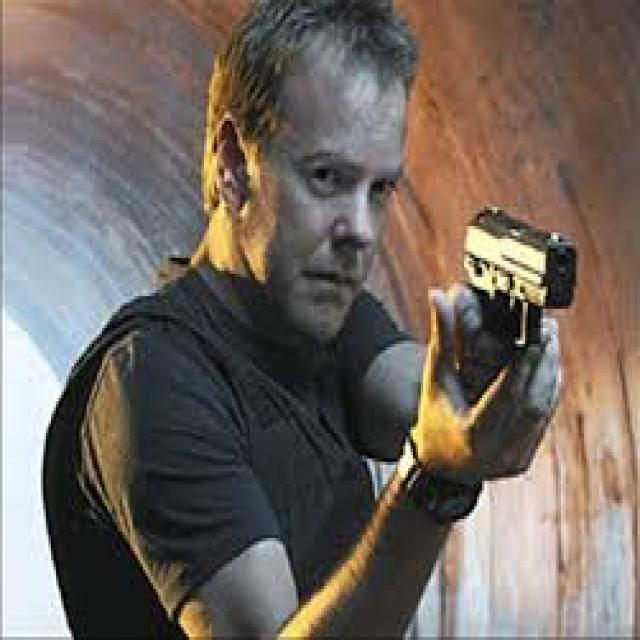weapons: (420, 168, 608, 424)
